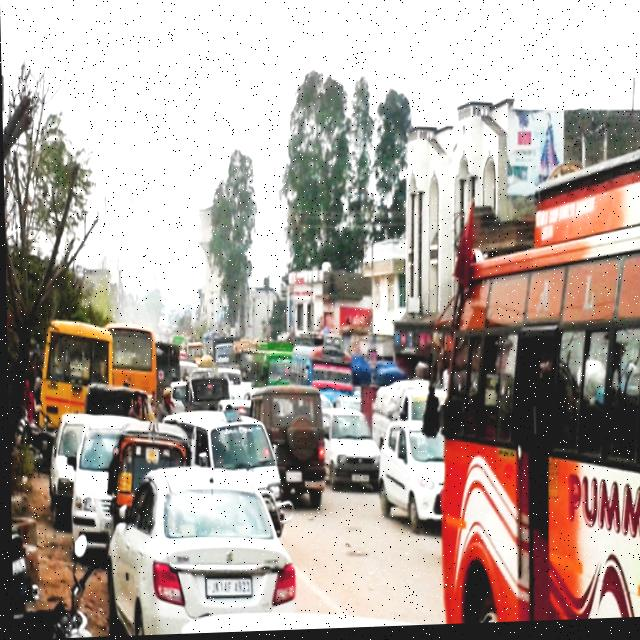plate: (199, 571, 252, 604), (348, 473, 369, 486)
